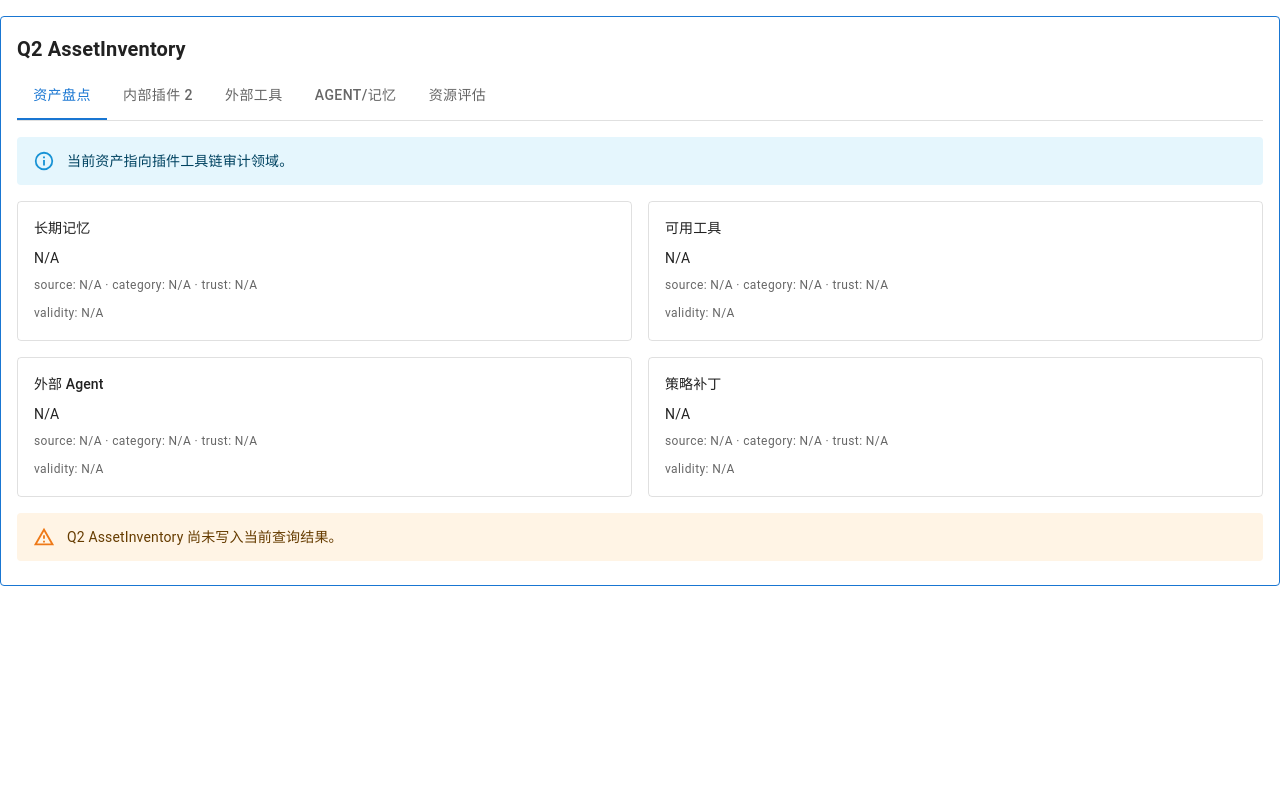
Test: Q2EvidencePanel › shows both cognitive and functional internal plugins in the plugin tab
Click the tab "内部插件 2".
click(158, 96)  # box [107,72,209,120]
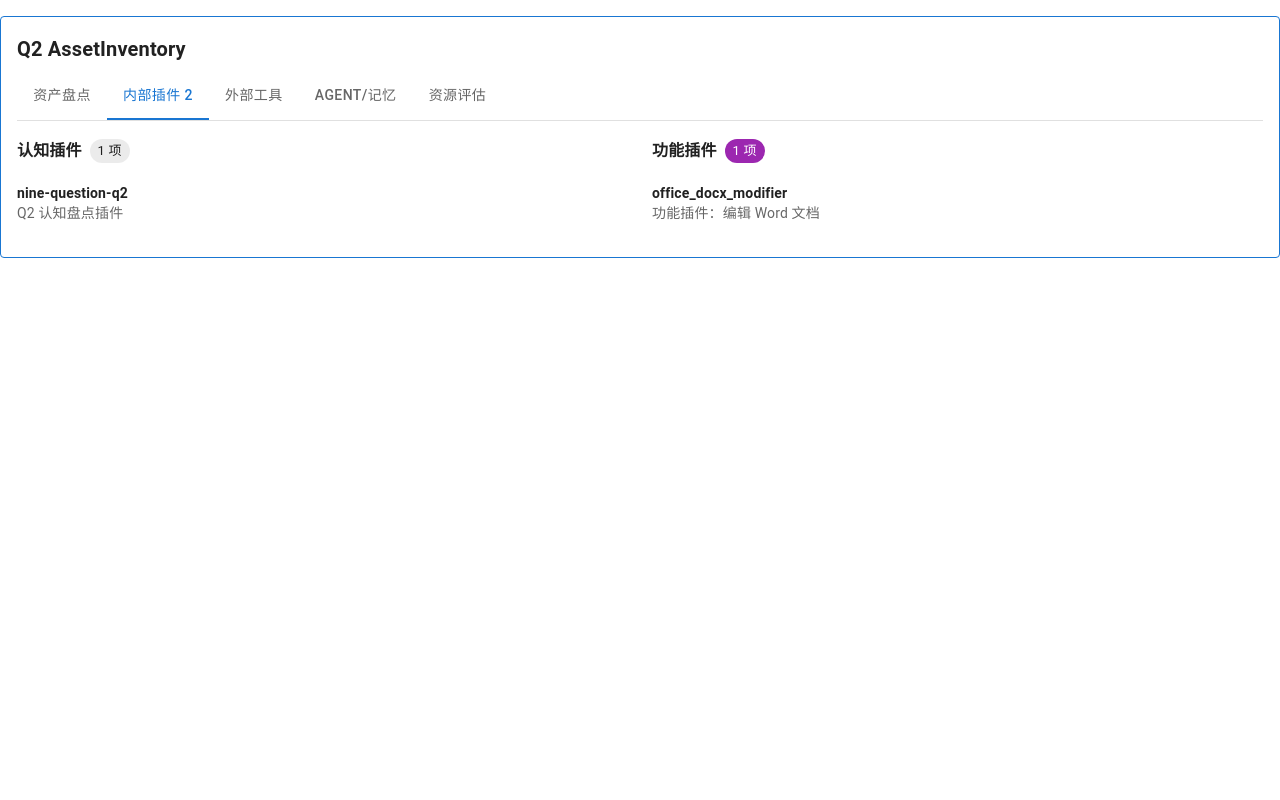
Now the heading "认知插件" is shown, box [17,137,82,165]
Now the text "nine-question-q2" is shown, box [17,185,128,201]
Now the heading "功能插件" is shown, box [652,137,717,165]
